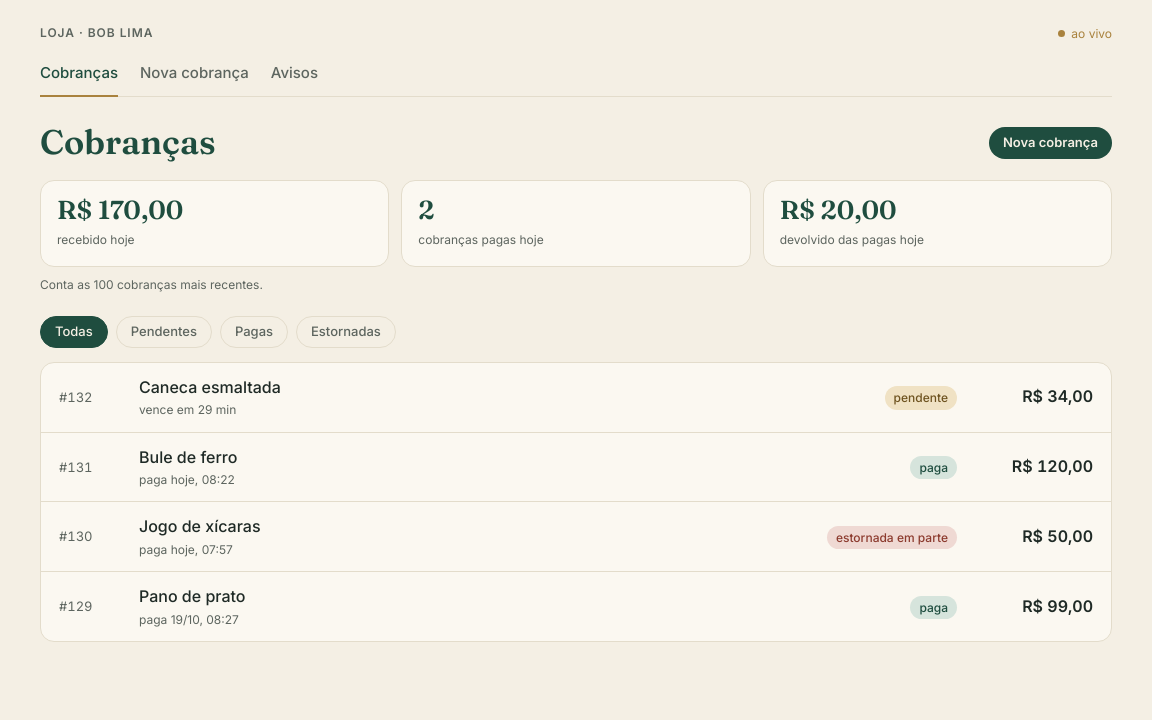
Painel do lojista › filtra por estado
This screenshot has width=1152, height=720.
Check: the text "Caneca esmaltada" is shown, box x1=139 y1=377 x2=281 y2=397
Click the button "Pendentes" at (164, 332), box x1=116 y1=316 x2=212 y2=348
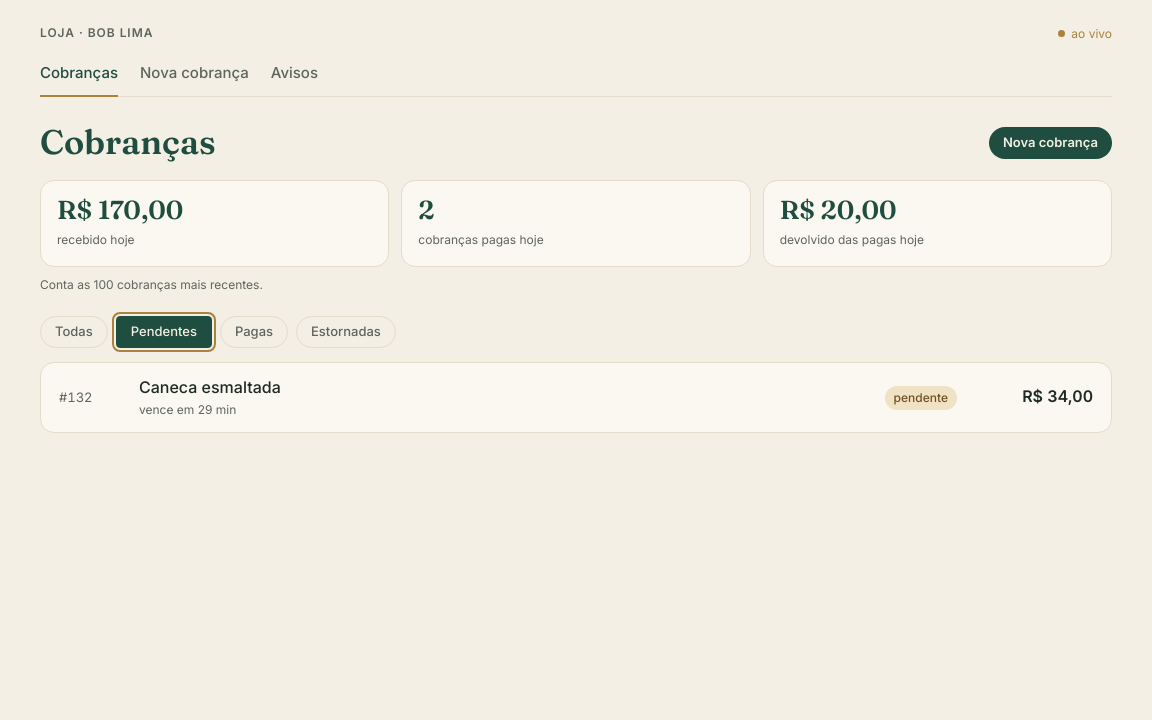
Check: the number of list items is 1, box x1=59 y1=377 x2=1093 y2=417
Click the button "Estornadas" at (346, 332), box x1=296 y1=316 x2=396 y2=348
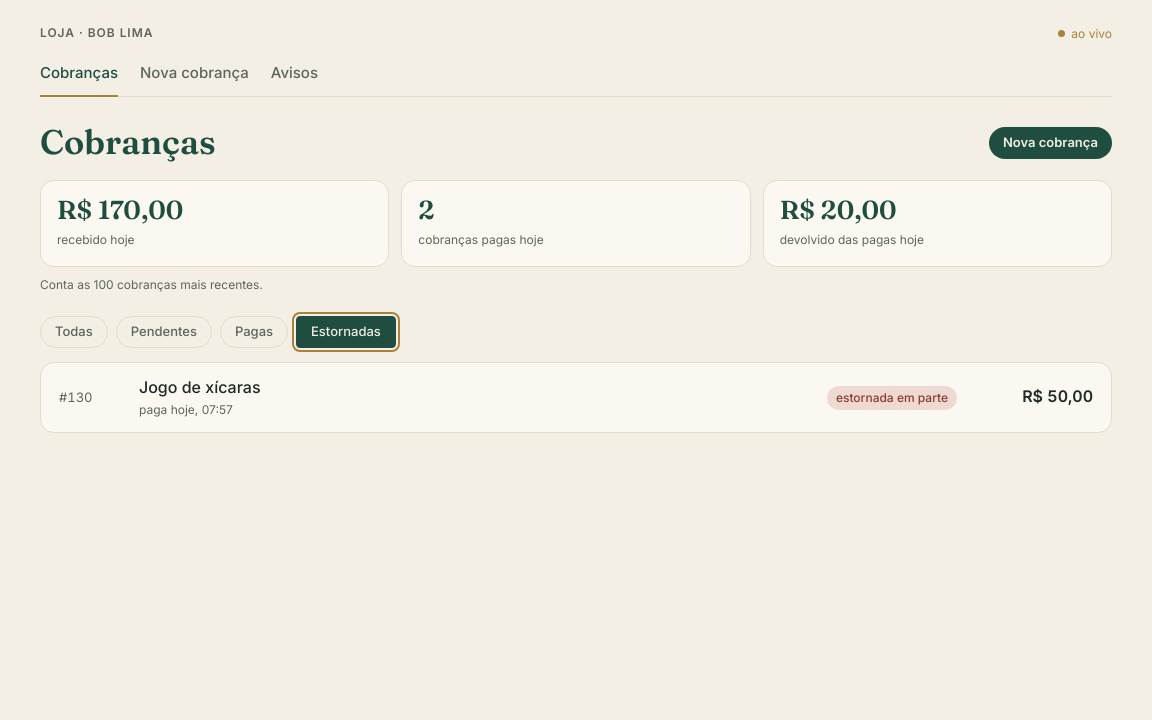
Check: the number of list items is 1, box x1=59 y1=377 x2=1093 y2=417
Click the button "Pagas" at (254, 332), box x1=220 y1=316 x2=288 y2=348
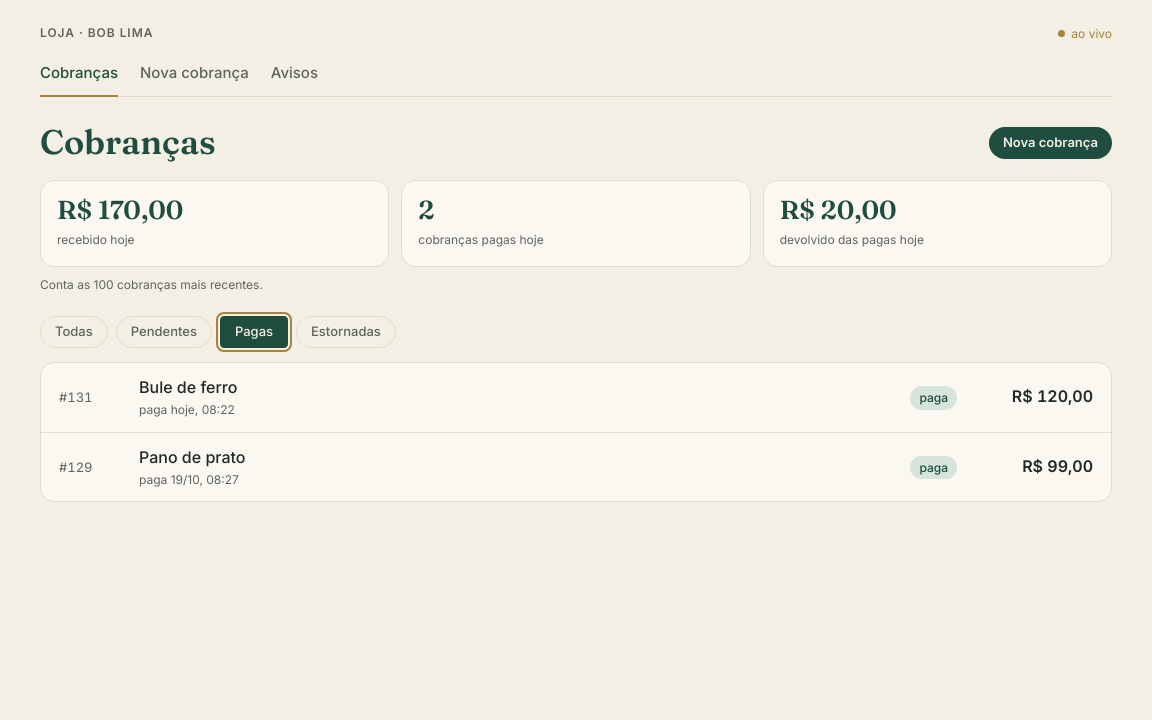
Check: the number of list items is 2, box x1=59 y1=377 x2=1093 y2=417; x1=41 y1=432 x2=1111 y2=501
Click the button "Todas" at (74, 332), box x1=40 y1=316 x2=108 y2=348
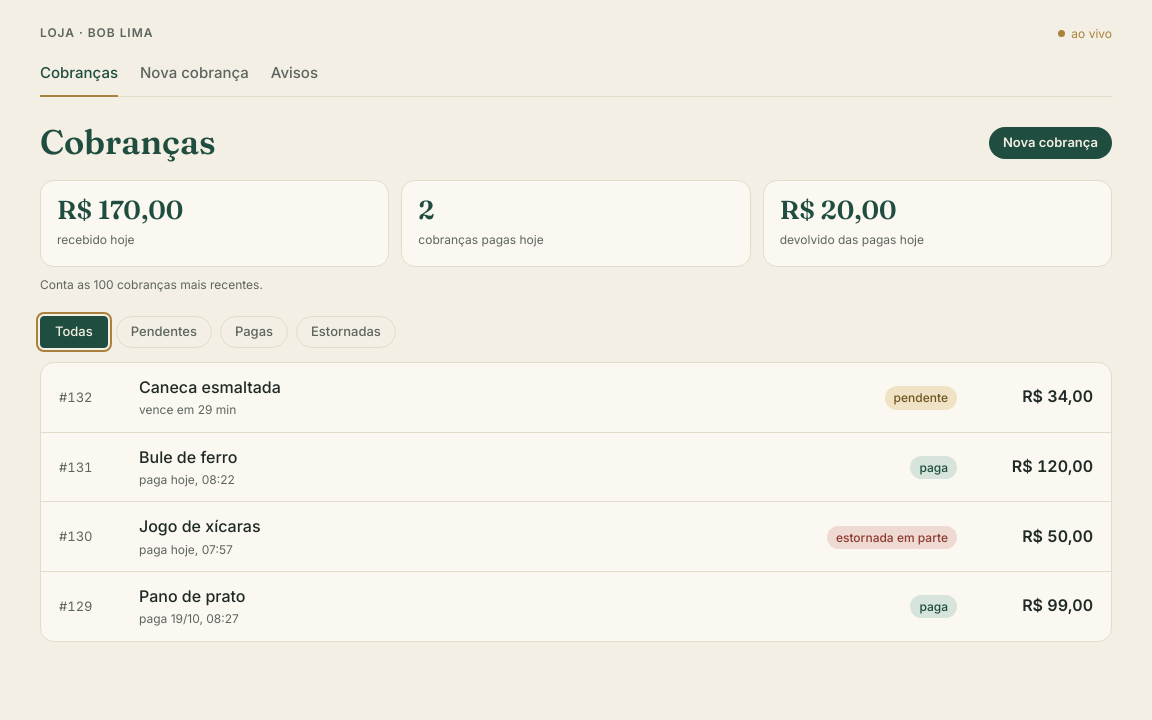
Check: the number of list items is 4, box x1=59 y1=377 x2=1093 y2=417; x1=41 y1=432 x2=1111 y2=501; x1=41 y1=501 x2=1111 y2=571; x1=41 y1=571 x2=1111 y2=641
